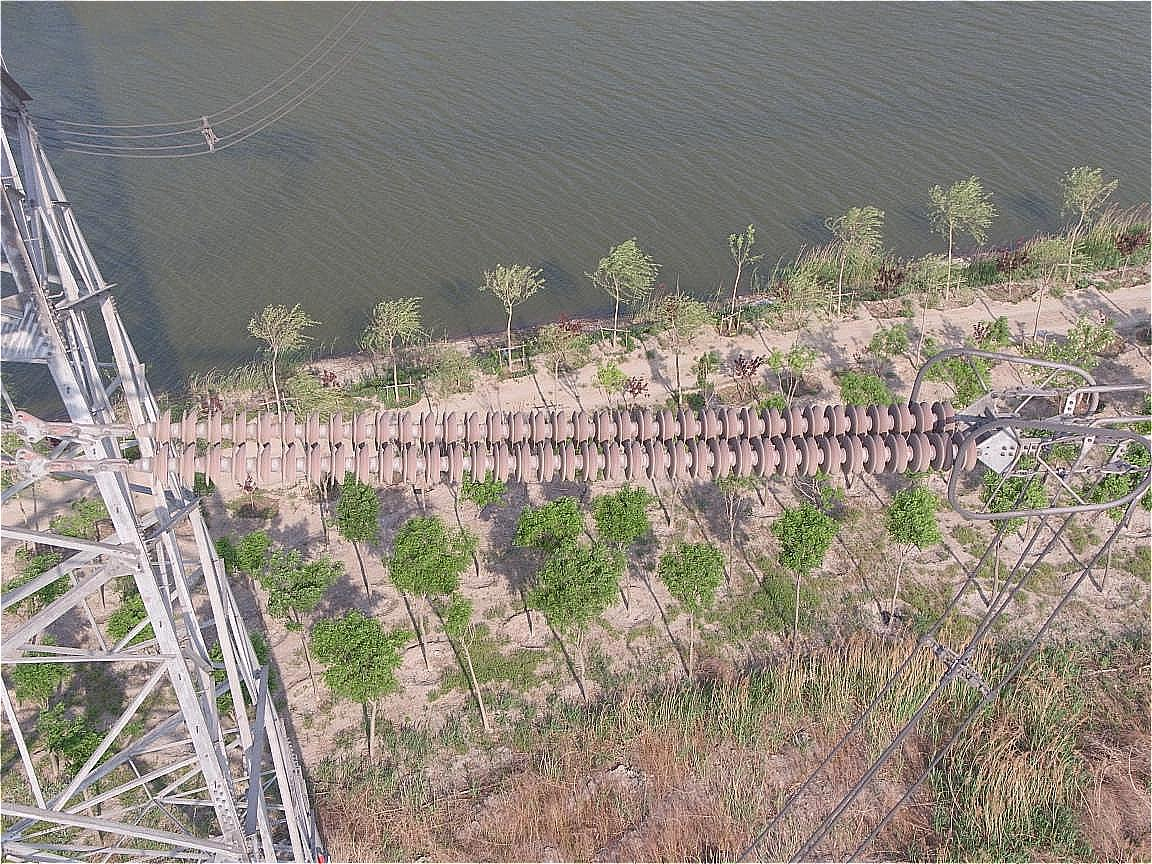insultor2: (128, 358, 1002, 522)
